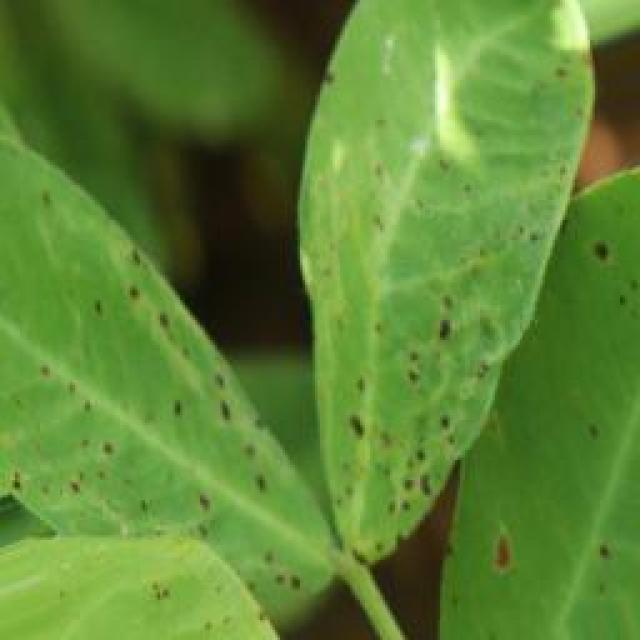Sigatoka: (312, 384, 439, 550), (506, 42, 637, 162), (326, 141, 438, 257), (378, 304, 477, 431), (0, 442, 137, 521), (158, 342, 255, 443), (447, 224, 522, 327), (554, 206, 640, 288), (506, 154, 583, 244), (190, 575, 296, 640), (25, 347, 111, 425), (124, 478, 218, 548), (551, 408, 637, 483), (112, 247, 178, 342), (199, 430, 275, 508), (468, 500, 534, 581), (2, 158, 76, 228), (76, 286, 135, 344), (140, 554, 196, 612), (574, 517, 613, 599)
